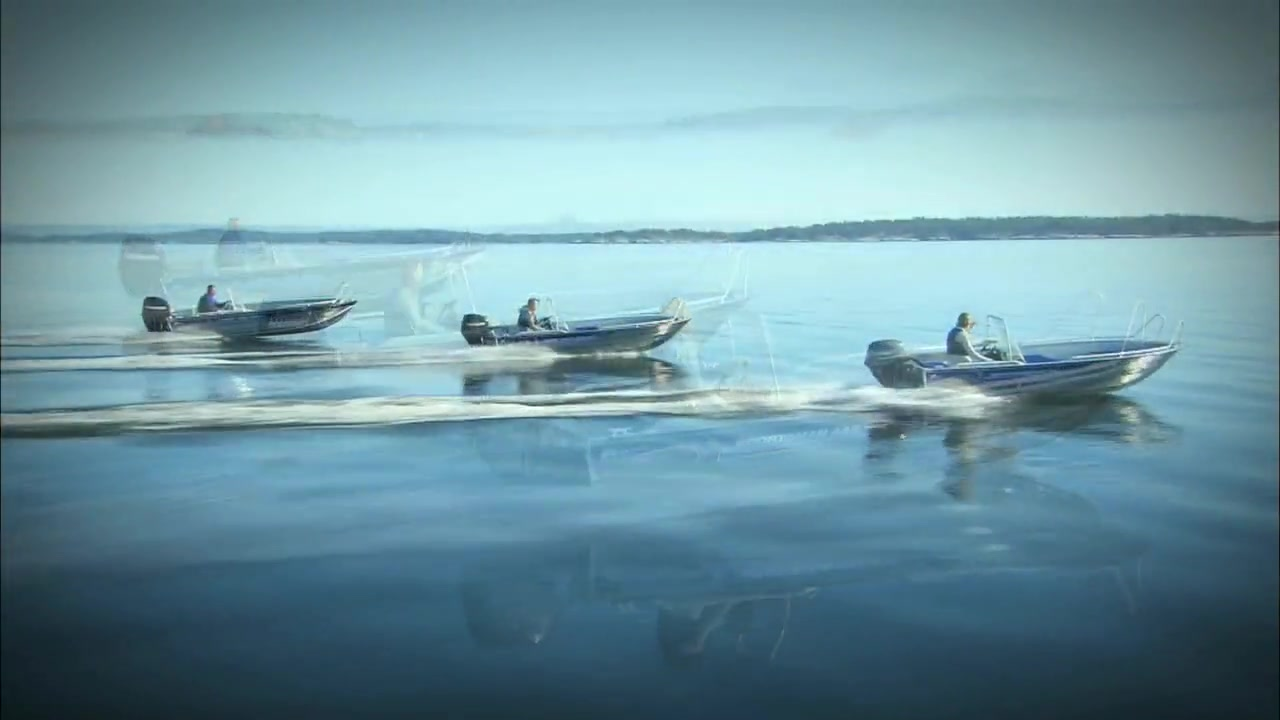boat: (862, 305, 1194, 404)
